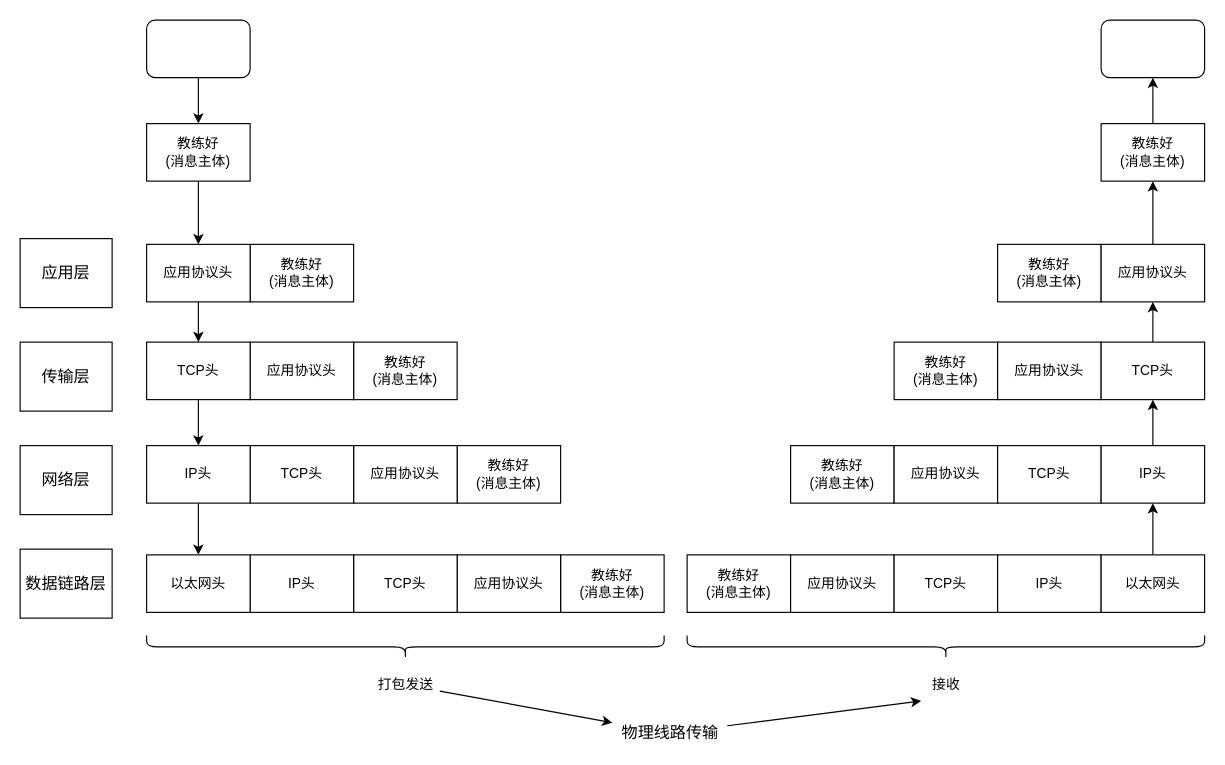
Image size: 1225x765. Some labels were removed from this diagram. The centre of each missing label's shape, as x and y in pixels:
"QQ发送消息 (user_1)" goes at (197,48).
"QQ接收消息 (user_2)" goes at (1152,48).
